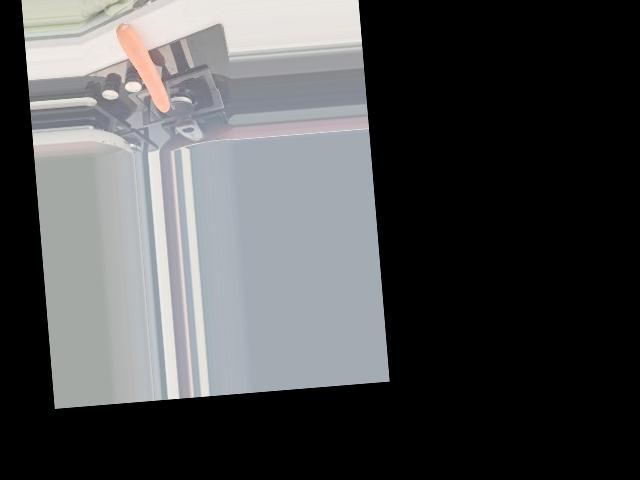carrot: (116, 18, 172, 115)
